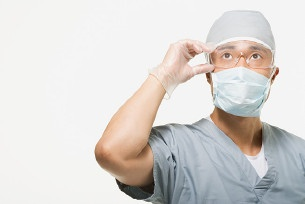Mask: (202, 44, 274, 115)
